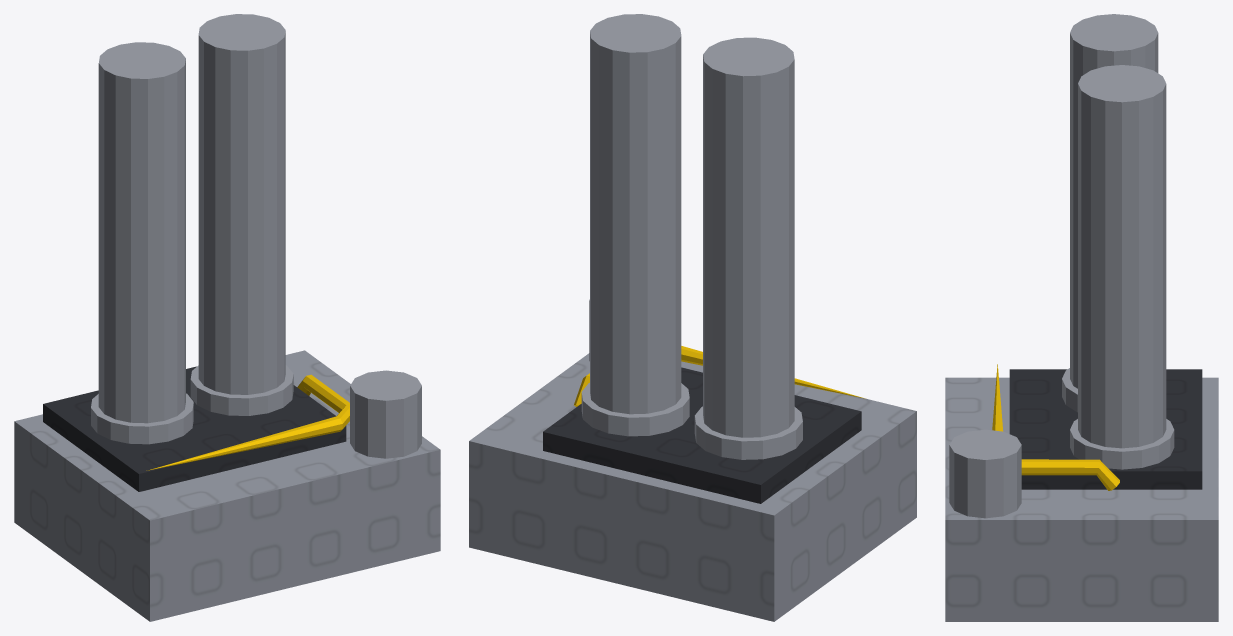
The model's file is Centrale_Gaz.glb.
3 views of the same model, side by side, from view 1: azimuth 30°, elevation 25°; view 2: azimuth 150°, elevation 25°; view 3: azimuth 270°, elevation 25° (orthographic). The views are drawn at different scales.
Parts seen in each view (by area): view 1: Centrale_Gaz; view 2: Centrale_Gaz; view 3: Centrale_Gaz.
Boxes of the visible parts, x1,y1,x2,y2 form: Centrale_Gaz: [14, 14, 440, 621]; Centrale_Gaz: [469, 14, 916, 621]; Centrale_Gaz: [945, 14, 1218, 621].
Bounding box in the file's own units: 4.2 × 6.65 × 3.4.
4 materials, 2 textured.
